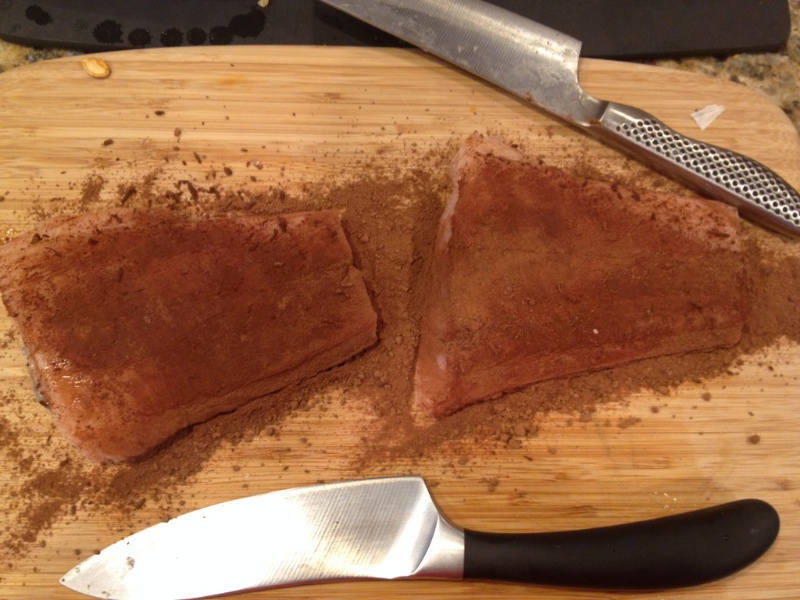knife: (318, 2, 800, 237), (57, 473, 772, 600)
